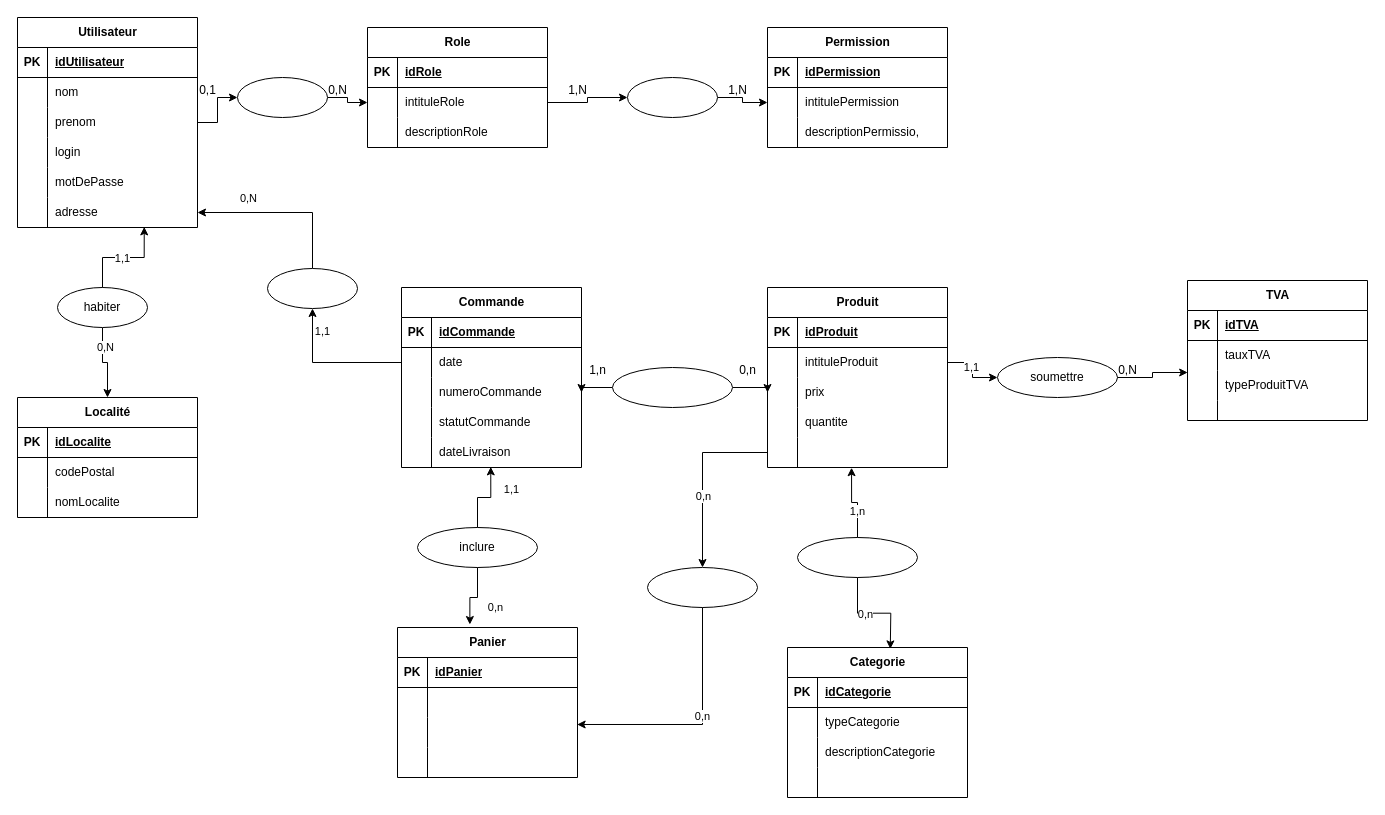
Some shapes in this 1385 by 815 pixel diagram are drawn without their labels. Each missing label, with the box of its shape:
ajouter ---------- quantite: (646, 566, 758, 608)
appartenir: (796, 536, 918, 578)
avoir: (236, 76, 328, 118)
contenir: (612, 366, 732, 408)
détenir: (626, 76, 718, 118)
passer: (266, 268, 358, 308)
